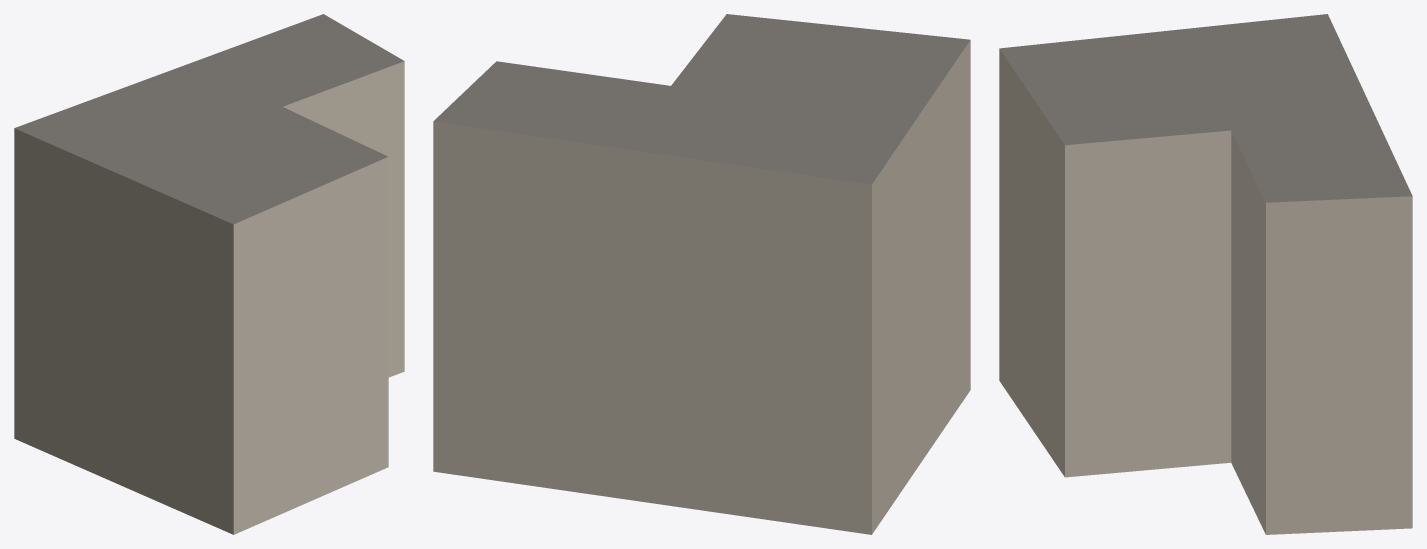
3 views of the same model, side by side, from view 1: azimuth 30°, elevation 25°; view 2: azimuth 150°, elevation 25°; view 3: azimuth 270°, elevation 25° (orthographic). The views are drawn at different scales.
Visible parts, largest first — view 1: HP-w702173892; view 2: HP-w702173892; view 3: HP-w702173892.
Boxes of the visible parts, box(x1,y1,x2,y2) form: HP-w702173892: box(14, 14, 404, 534); HP-w702173892: box(433, 14, 970, 534); HP-w702173892: box(999, 14, 1412, 534).
Size of the model in its own units: 21.93 by 18 by 20.3.
